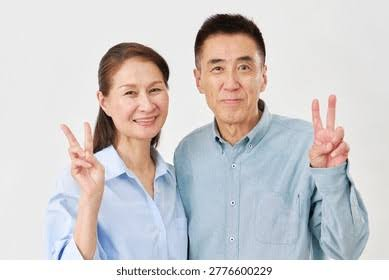peace_sign: (61, 119, 108, 196), (306, 92, 349, 166)
